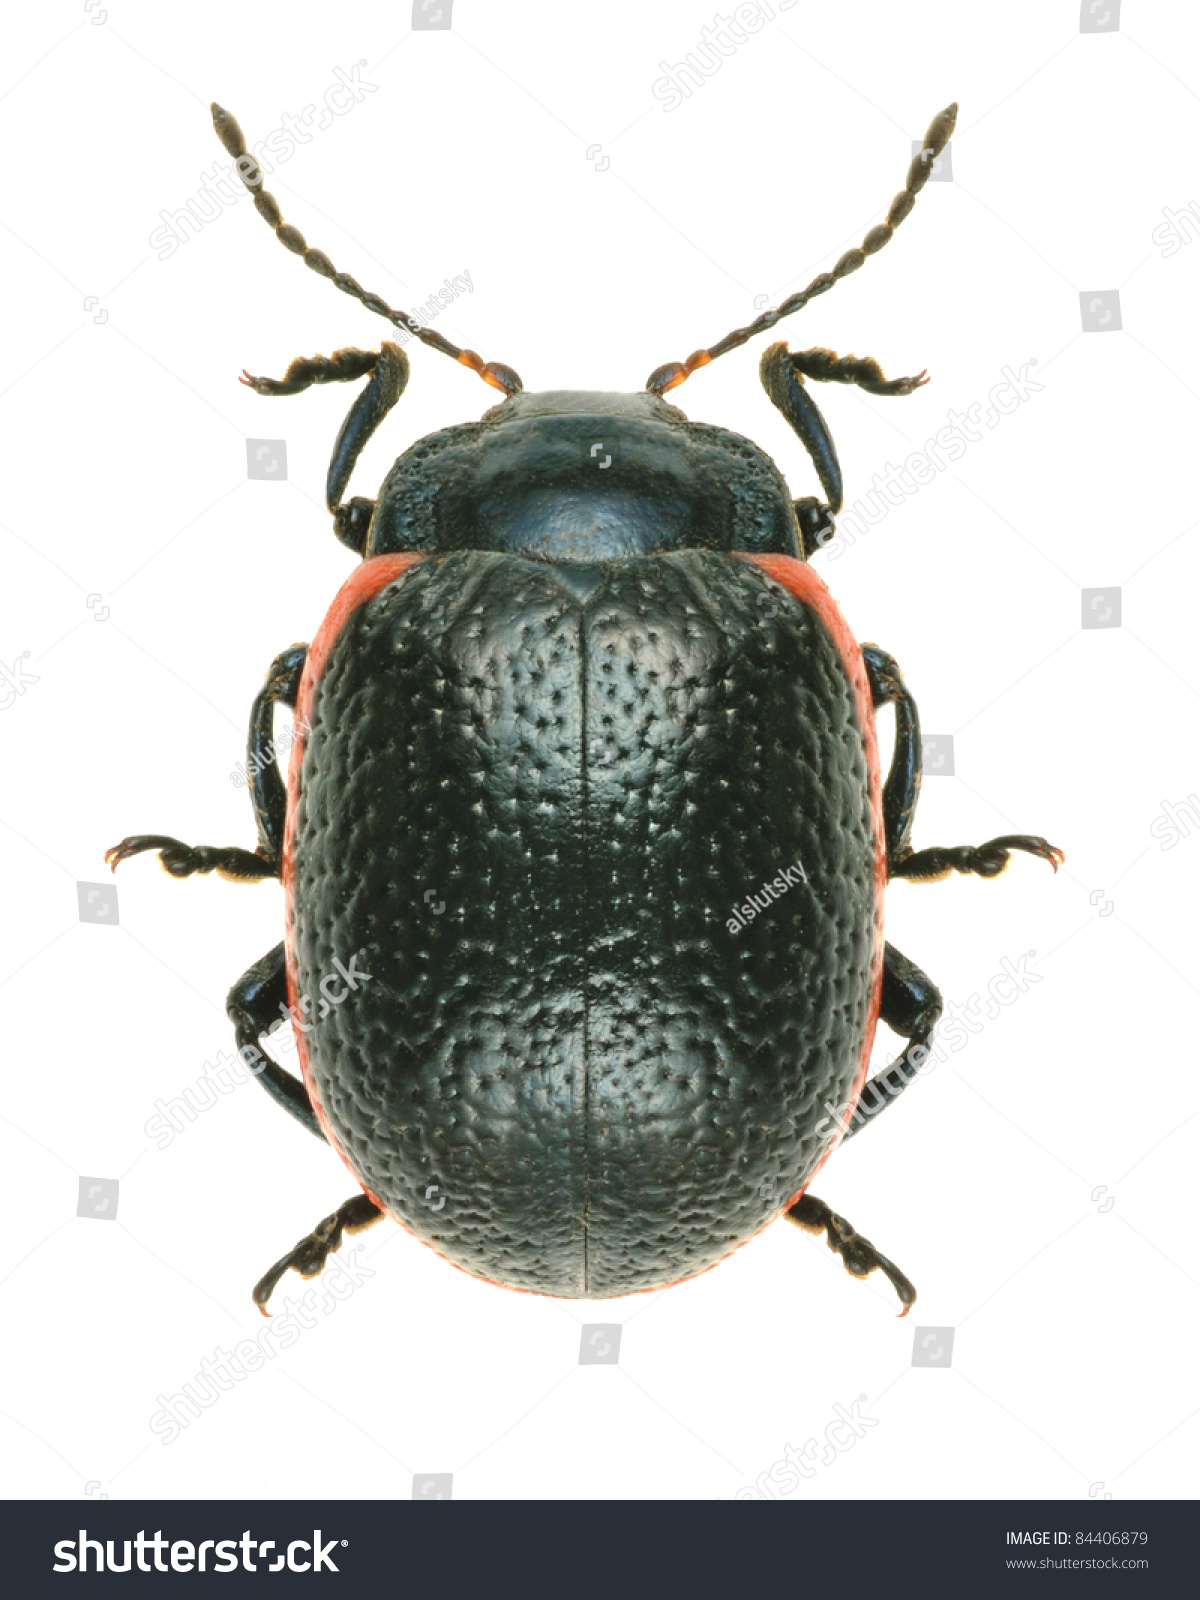Chrysolina_gypsophila: (89, 81, 982, 1351)
